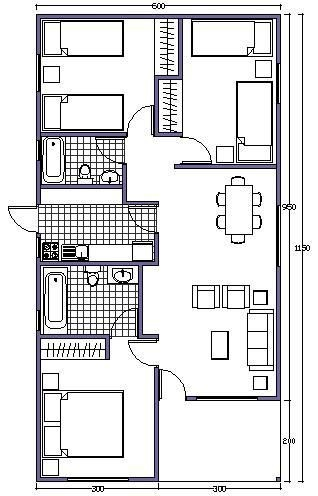door: (183, 129, 212, 163), (8, 204, 39, 235), (161, 368, 189, 401), (94, 138, 128, 163), (112, 299, 135, 335), (130, 340, 155, 370), (127, 102, 150, 131)
room: (164, 172, 276, 392), (44, 343, 154, 475), (43, 19, 155, 132), (187, 23, 271, 164), (44, 191, 154, 258), (44, 137, 128, 183)
wall: (36, 9, 282, 20), (152, 367, 160, 482), (37, 338, 43, 481), (174, 162, 280, 170), (275, 104, 283, 205), (41, 261, 163, 267), (42, 130, 128, 138), (276, 269, 281, 399), (41, 184, 126, 191), (38, 331, 110, 339), (136, 267, 144, 338), (152, 74, 161, 136), (178, 18, 186, 76), (274, 19, 283, 64), (34, 92, 41, 139), (120, 164, 128, 205), (35, 16, 43, 56), (156, 127, 185, 138), (35, 161, 42, 204), (38, 473, 67, 482), (123, 198, 160, 205), (36, 259, 41, 309), (132, 474, 165, 481), (157, 73, 184, 81), (139, 333, 163, 341), (104, 338, 113, 359), (153, 233, 159, 263), (261, 394, 282, 401), (184, 394, 194, 401)
window: (71, 475, 131, 484), (272, 205, 280, 267), (35, 57, 42, 91), (276, 67, 281, 103), (33, 142, 40, 161), (35, 234, 40, 256)
